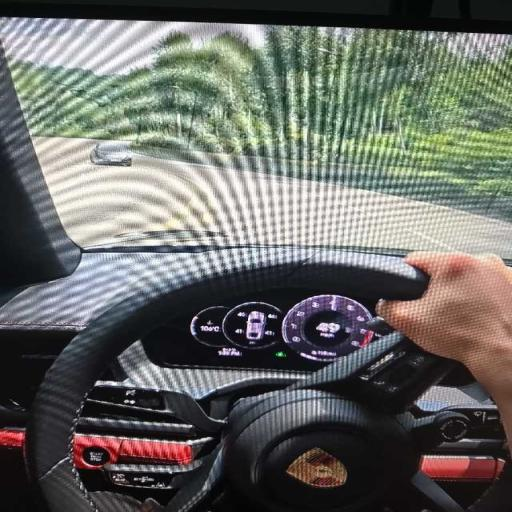car: (0, 5, 511, 511), (90, 142, 132, 166), (246, 311, 266, 339)
lane: (34, 138, 511, 257)
person: (377, 252, 511, 448)
